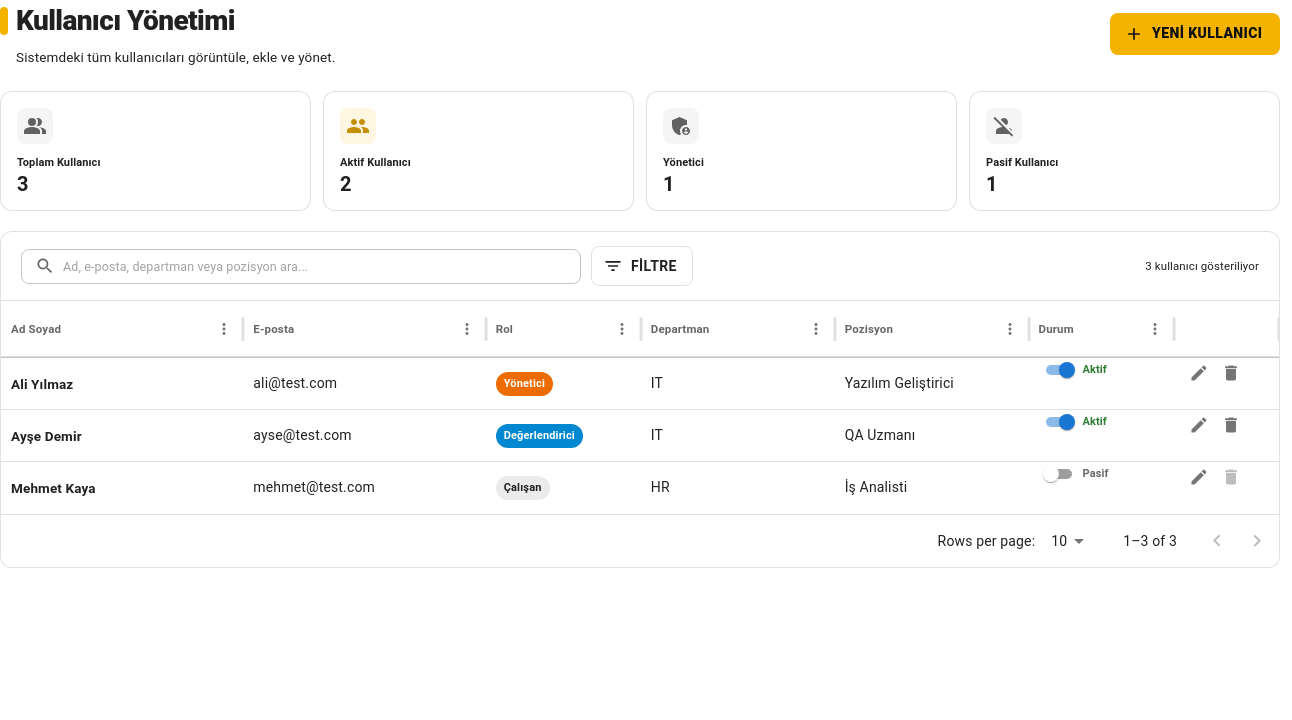
Test: UsersPage › aktiflik güncelleme hatasını göstermeli
Expected: the text "Ali Yılmaz" is shown, [11,374,73,394]
Step 1. Click the 1st switch → (1066, 370), box [1058,362,1074,378]
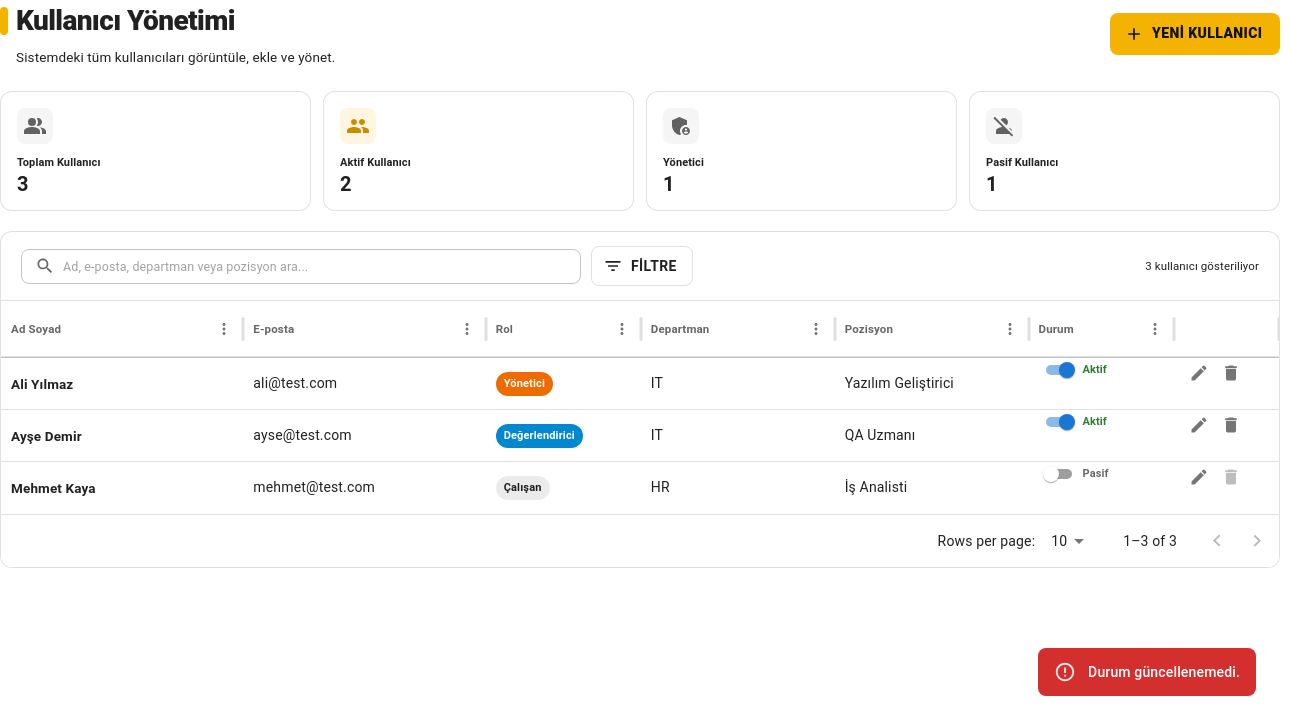
Result: the text "Durum güncellenemedi." is shown at [1088,664,1240,680]
